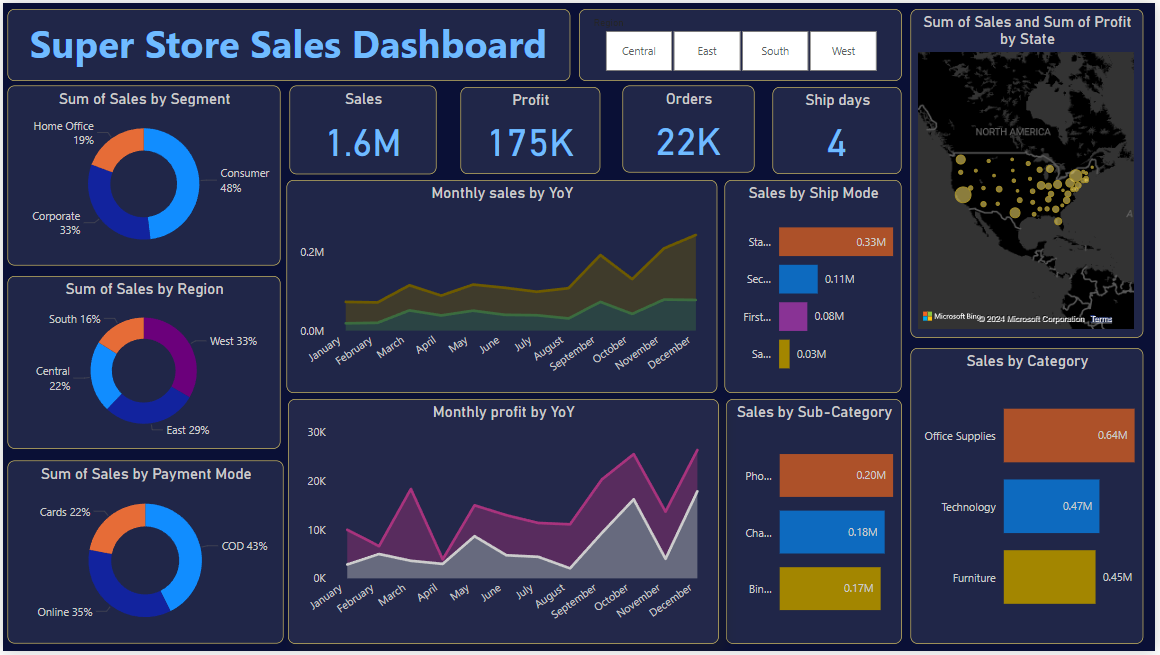

The page's visual inventory and layout, read from the dashboard file:
{"tool":"powerbi","page":{"name":"Sales Dashboard","canvas":[1280,720],"ordinal":0},"visuals":[{"type":"clusteredBarChart","title":"Sales by Category","fields":{"Category":["SuperStore_Sales_Dataset.Category"],"Y":["Sum(SuperStore_Sales_Dataset.Sales)"]},"box":[1008.3,383.3,258.3,328.3],"z":0},{"type":"clusteredBarChart","title":"Sales by Sub-Category","fields":{"Category":["SuperStore_Sales_Dataset.Sub-Category"],"Y":["Sum(SuperStore_Sales_Dataset.Sales)"]},"box":[803.3,440,195,271.7],"z":1000},{"type":"clusteredBarChart","title":"Sales by Ship Mode","fields":{"Category":["SuperStore_Sales_Dataset.Ship Mode"],"Y":["Sum(SuperStore_Sales_Dataset.Sales)"]},"box":[801.7,196.7,196.7,236.7],"z":2000},{"type":"stackedAreaChart","title":"Monthly sales by YoY","fields":{"Category":["SuperStore_Sales_Dataset.Order Date.Variation.Date Hierarchy.Month"],"Y":["Sum(SuperStore_Sales_Dataset.Sales)"],"Series":["SuperStore_Sales_Dataset.Order Date.Variation.Date Hierarchy.Year"]},"box":[315,196.7,478.3,236.7],"z":3000},{"type":"stackedAreaChart","title":"Monthly profit by YoY","fields":{"Category":["SuperStore_Sales_Dataset.Order Date.Variation.Date Hierarchy.Month"],"Series":["SuperStore_Sales_Dataset.Order Date.Variation.Date Hierarchy.Year"],"Y":["Sum(SuperStore_Sales_Dataset.Profit)"]},"box":[316.7,440,478.3,271.7],"z":4000},{"type":"map","fields":{"Size":["Sum(SuperStore_Sales_Dataset.Sales)"],"Category":["SuperStore_Sales_Dataset.State"]},"box":[1008.3,6.7,258.3,365],"z":5000},{"type":"donutChart","fields":{"Category":["SuperStore_Sales_Dataset.Segment"],"Y":["Sum(SuperStore_Sales_Dataset.Sales)"]},"box":[5,91.7,303.3,200],"z":6000},{"type":"donutChart","fields":{"Category":["SuperStore_Sales_Dataset.Payment Mode"],"Y":["Sum(SuperStore_Sales_Dataset.Sales)"]},"box":[5,508.3,306.7,203.3],"z":7000},{"type":"textbox","box":[5,6.7,625,80],"z":8000},{"type":"donutChart","fields":{"Category":["SuperStore_Sales_Dataset.Region"],"Y":["Sum(SuperStore_Sales_Dataset.Sales)"]},"box":[5,303.3,303.3,191.7],"z":9000},{"type":"slicer","fields":{"Values":["SuperStore_Sales_Dataset.Region"]},"box":[640,6.7,358.3,80],"z":10000},{"type":"card","title":"Sales","fields":{"Values":["Sum(SuperStore_Sales_Dataset.Sales)"]},"box":[318.3,91.7,163.3,98.3],"z":11000},{"type":"card","title":"Profit","fields":{"Values":["Sum(SuperStore_Sales_Dataset.Profit)"]},"box":[508.3,93.3,155,96.7],"z":12000},{"type":"card","title":"Orders","fields":{"Values":["Sum(SuperStore_Sales_Dataset.Quantity)"]},"box":[688.3,91.7,146.7,96.7],"z":13000},{"type":"card","title":"Ship days","fields":{"Values":["Avg(SuperStore_Sales_Dataset.Avg Delivery)"]},"box":[855,93.3,143.3,96.7],"z":14000}]}

Visuals, with their boxes in screenshot pixels (x1, y1, x2, y2), scaled from the page's 1280x720 canvas onto the 1160x655 screenshot:
"Sales by Category" clusteredBarChart: bbox=(914, 349, 1148, 647)
"Sales by Sub-Category" clusteredBarChart: bbox=(728, 400, 905, 647)
"Sales by Ship Mode" clusteredBarChart: bbox=(727, 179, 905, 394)
"Monthly sales by YoY" stackedAreaChart: bbox=(285, 179, 719, 394)
"Monthly profit by YoY" stackedAreaChart: bbox=(287, 400, 720, 647)
map - Sum(SuperStore_Sales_Dataset.Sales) x SuperStore_Sales_Dataset.State: bbox=(914, 6, 1148, 338)
donutChart - SuperStore_Sales_Dataset.Segment x Sum(SuperStore_Sales_Dataset.Sales): bbox=(5, 83, 279, 265)
donutChart - SuperStore_Sales_Dataset.Payment Mode x Sum(SuperStore_Sales_Dataset.Sales): bbox=(5, 462, 282, 647)
textbox: bbox=(5, 6, 571, 79)
donutChart - SuperStore_Sales_Dataset.Region x Sum(SuperStore_Sales_Dataset.Sales): bbox=(5, 276, 279, 450)
slicer - SuperStore_Sales_Dataset.Region: bbox=(580, 6, 905, 79)
"Sales" card: bbox=(288, 83, 436, 173)
"Profit" card: bbox=(461, 85, 601, 173)
"Orders" card: bbox=(624, 83, 757, 171)
"Ship days" card: bbox=(775, 85, 905, 173)
